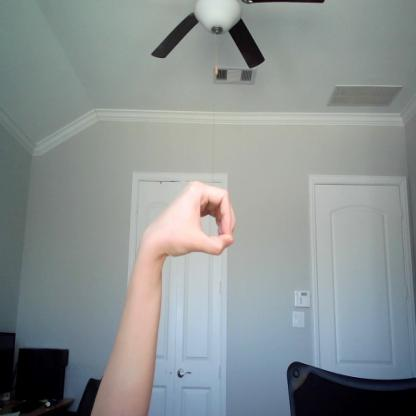O: (158, 174, 236, 258)
